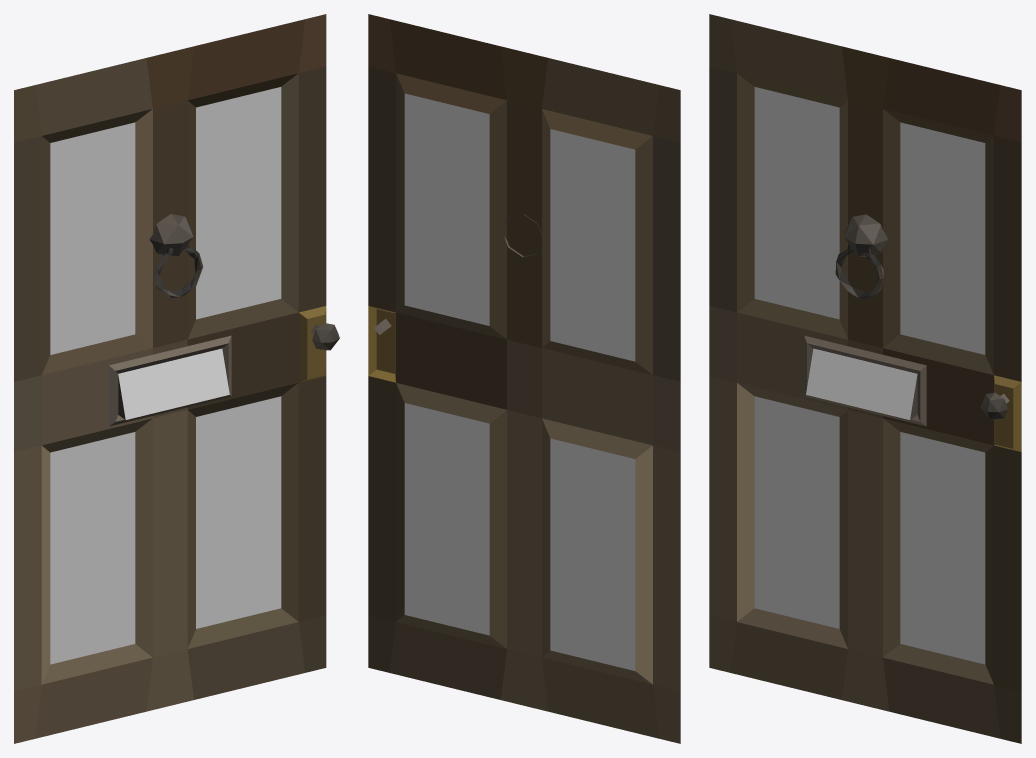
Rendered from Door_4.fbx.
3 views of the same model, side by side, from view 1: azimuth 30°, elevation 25°; view 2: azimuth 150°, elevation 25°; view 3: azimuth 330°, elevation 25° (orthographic).
Parts seen in each view (by area): view 1: DoorD.004, DoorD.001, DoorD.003, DoorD, DoorD.002; view 2: DoorD.004, DoorD.001, DoorD.003, DoorD; view 3: DoorD.004, DoorD.001, DoorD.003, DoorD, DoorD.002.
Boxes of the visible parts, x1,y1,x2,y2 form: DoorD.004: (14,14,326,743); DoorD.001: (50,87,281,664); DoorD.003: (41,312,298,445); DoorD: (109,214,339,426); DoorD.002: (118,348,229,419); DoorD.004: (368,14,680,743); DoorD.001: (404,93,635,670); DoorD.003: (396,312,652,445); DoorD: (368,214,542,418); DoorD.004: (709,14,1021,743); DoorD.001: (754,87,985,664); DoorD.003: (737,312,993,445); DoorD: (804,214,1021,451); DoorD.002: (806,348,917,419).
Size of the model in its own units: 120 by 240 by 16.53.
